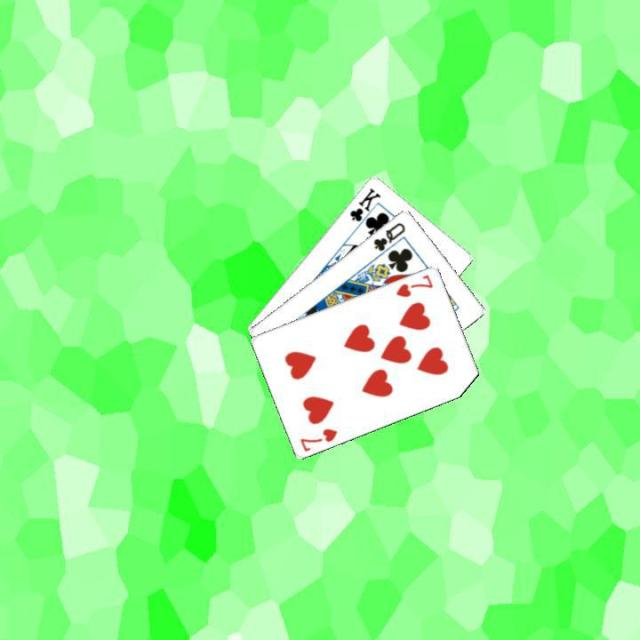7H: (296, 424, 340, 453), (392, 270, 435, 299)
KC: (346, 184, 382, 230)
QC: (370, 218, 407, 252)
